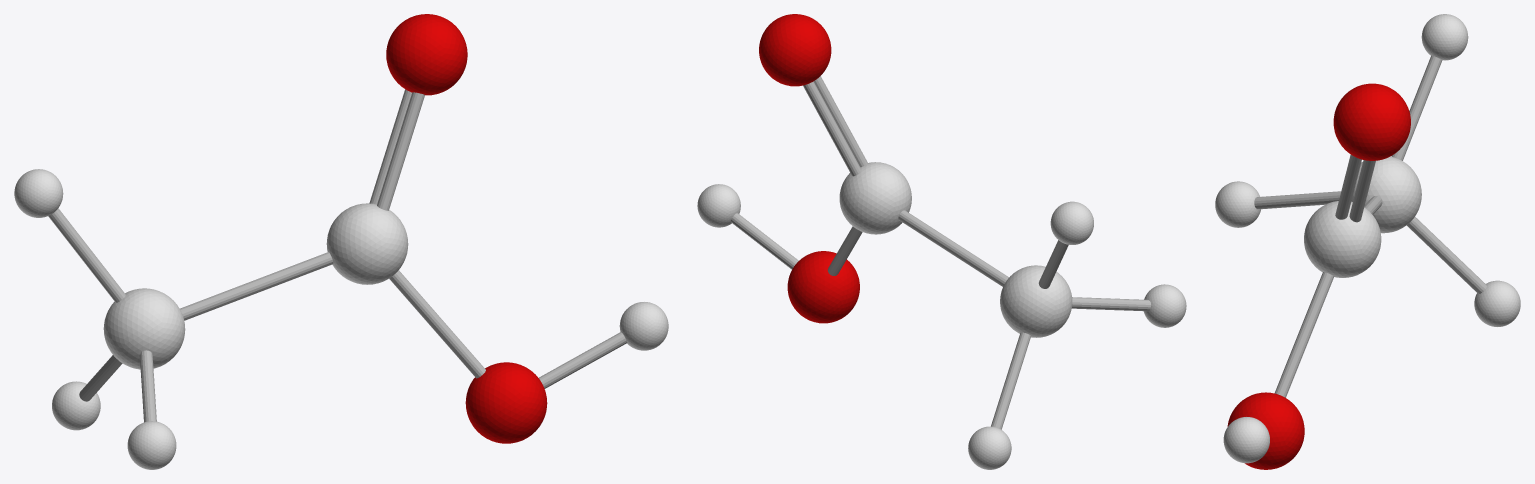
3 renders of one model, left to right at view 1: azimuth 30°, elevation 25°; view 2: azimuth 150°, elevation 25°; view 3: azimuth 270°, elevation 25°, orthographic. The views are drawn at different scales.
Parts seen in each view (by area): view 1: world; view 2: world; view 3: world.
Boxes of the visible parts, x1,y1,x2,y2 form: world: [14, 14, 668, 469]; world: [697, 14, 1186, 469]; world: [1215, 14, 1520, 469].
Size of the model in its own units: 3.85 by 2.63 by 1.97.
